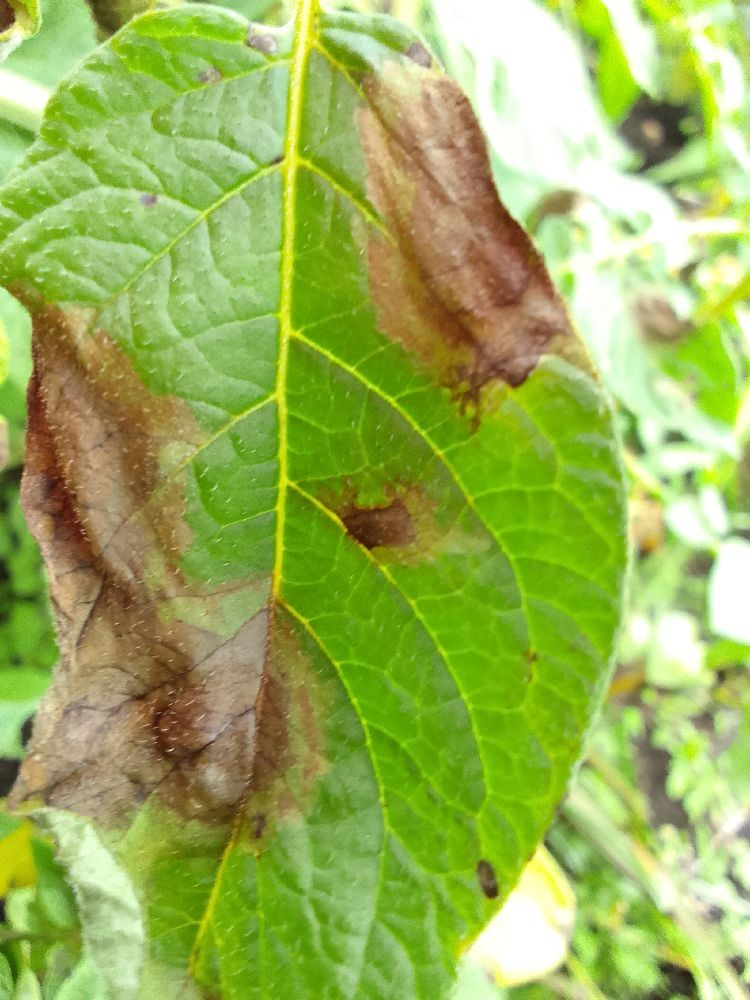late_blight: (0, 285, 343, 864), (308, 28, 635, 476), (302, 454, 451, 567), (613, 86, 704, 182)
